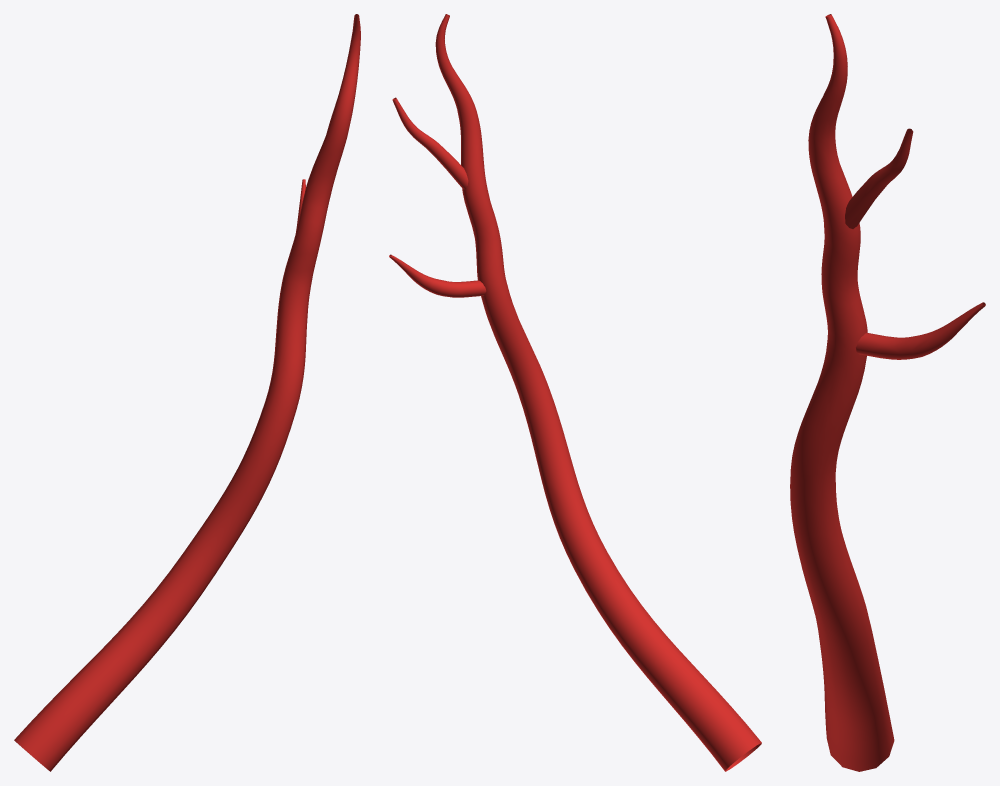
The model's file is circulatorio-posterior-deep-temporal-artery-l.glb.
3 views of the same model, side by side, from view 1: azimuth 30°, elevation 25°; view 2: azimuth 150°, elevation 25°; view 3: azimuth 270°, elevation 25° (orthographic). The views are drawn at different scales.
Parts seen in each view (by area): view 1: Posterior deep temporal artery.l; view 2: Posterior deep temporal artery.l; view 3: Posterior deep temporal artery.l.
Part boxes in pixels (x1=…): Posterior deep temporal artery.l: x1=14, y1=14, x2=360, y2=771; Posterior deep temporal artery.l: x1=389, y1=14, x2=761, y2=771; Posterior deep temporal artery.l: x1=790, y1=14, x2=985, y2=771.
Size of the model in its own units: 0.0253 by 0.0469 by 0.00867.
